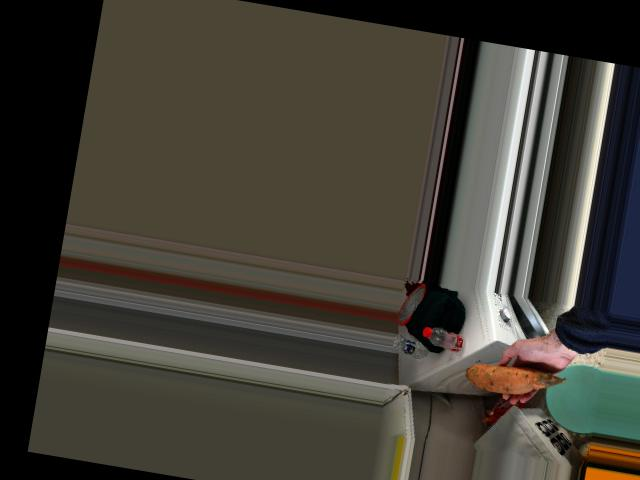sweet_potato: (472, 357, 561, 396)
